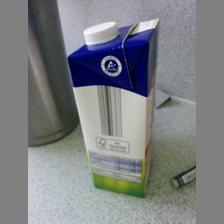Milch: (61, 18, 166, 200)
